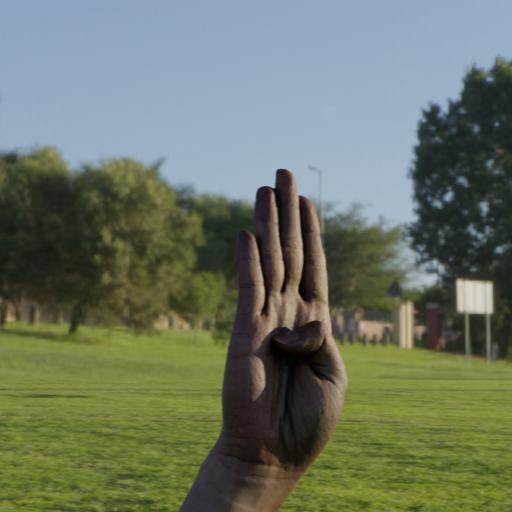B: (224, 165, 349, 463)
